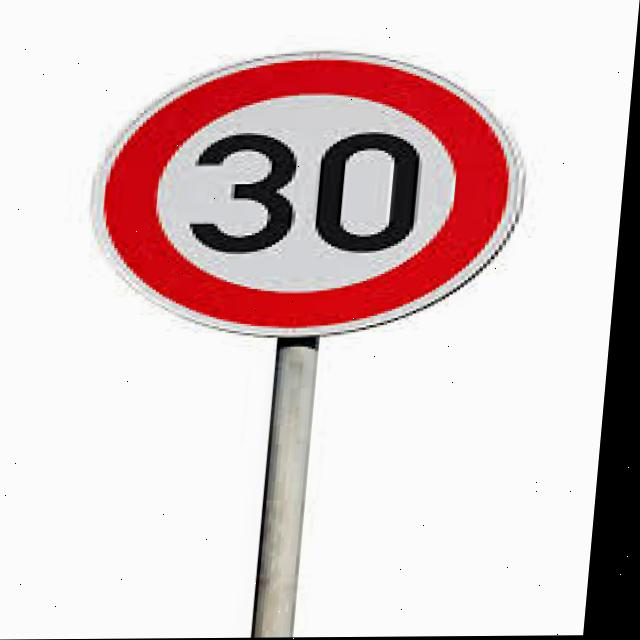Speed limit 30: (82, 47, 543, 342)
